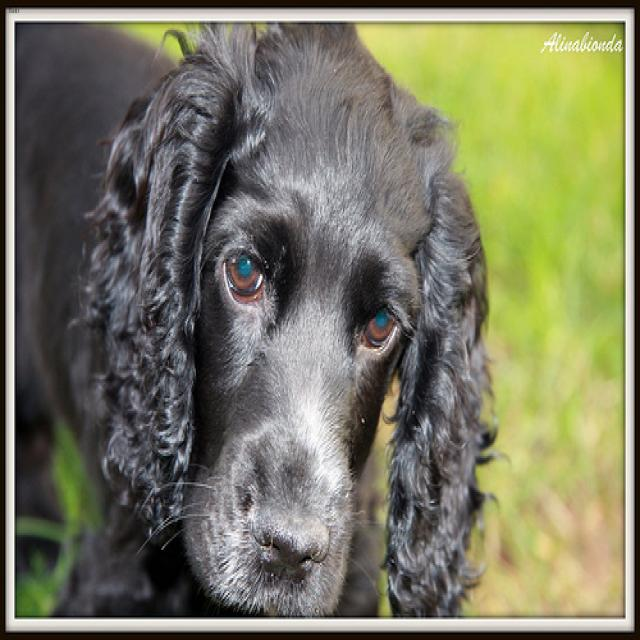dog-english_cocker_spaniel: (3, 9, 506, 634)
